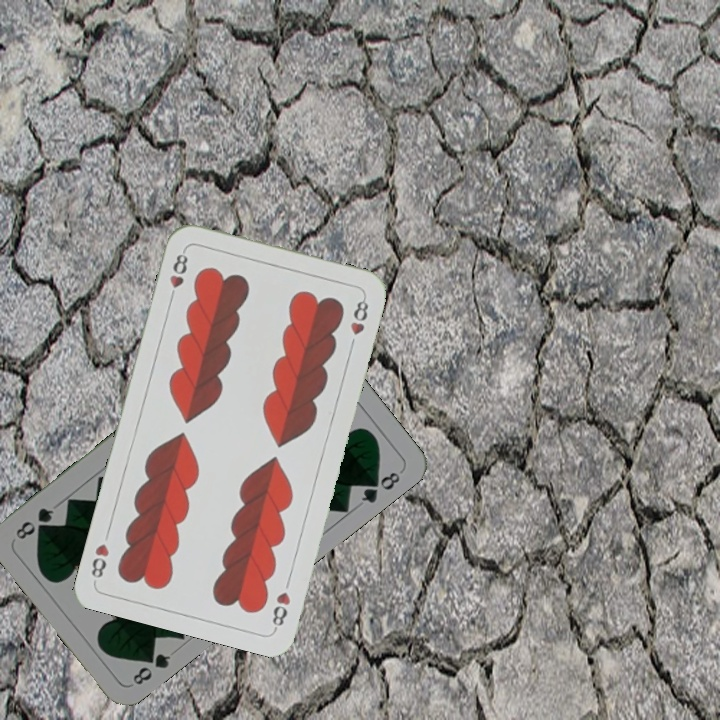G8: (128, 646, 173, 688)
H8: (165, 246, 191, 304), (268, 587, 293, 632)
